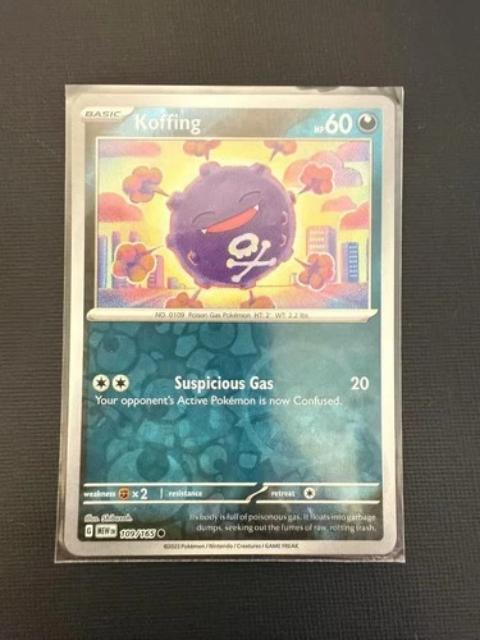Card: (54, 84, 400, 559)
Name: (132, 109, 207, 134)
